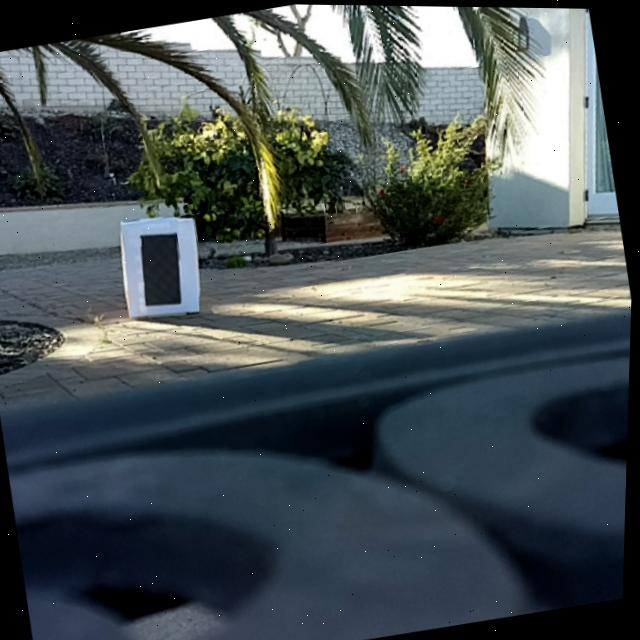led: (136, 230, 189, 308)
